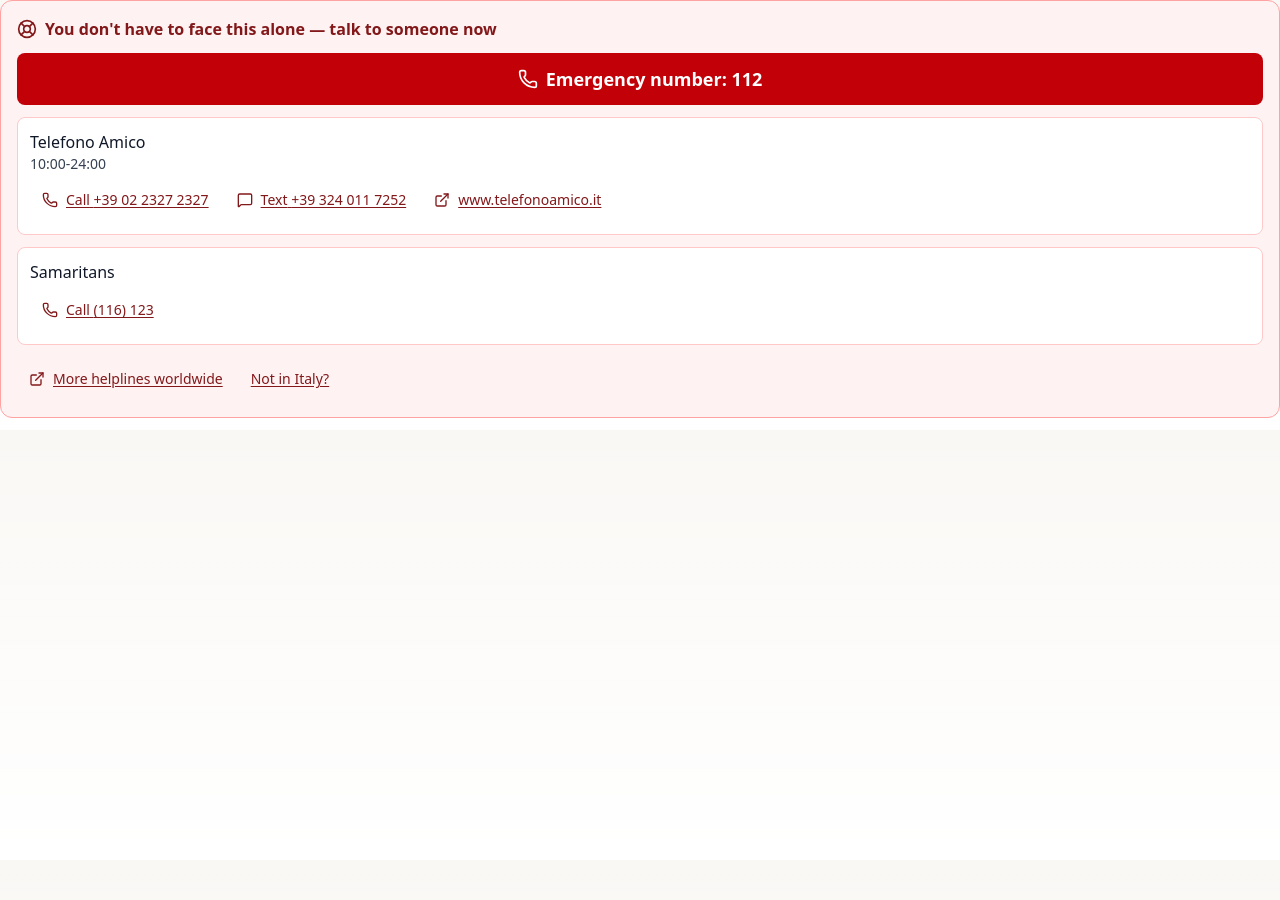
Test: CrisisResourcesCard (BITB-255) › opens a country picker, stores the override and notifies
Click the button "Not in Italy?".
click(290, 379)  # box [239, 357, 341, 401]
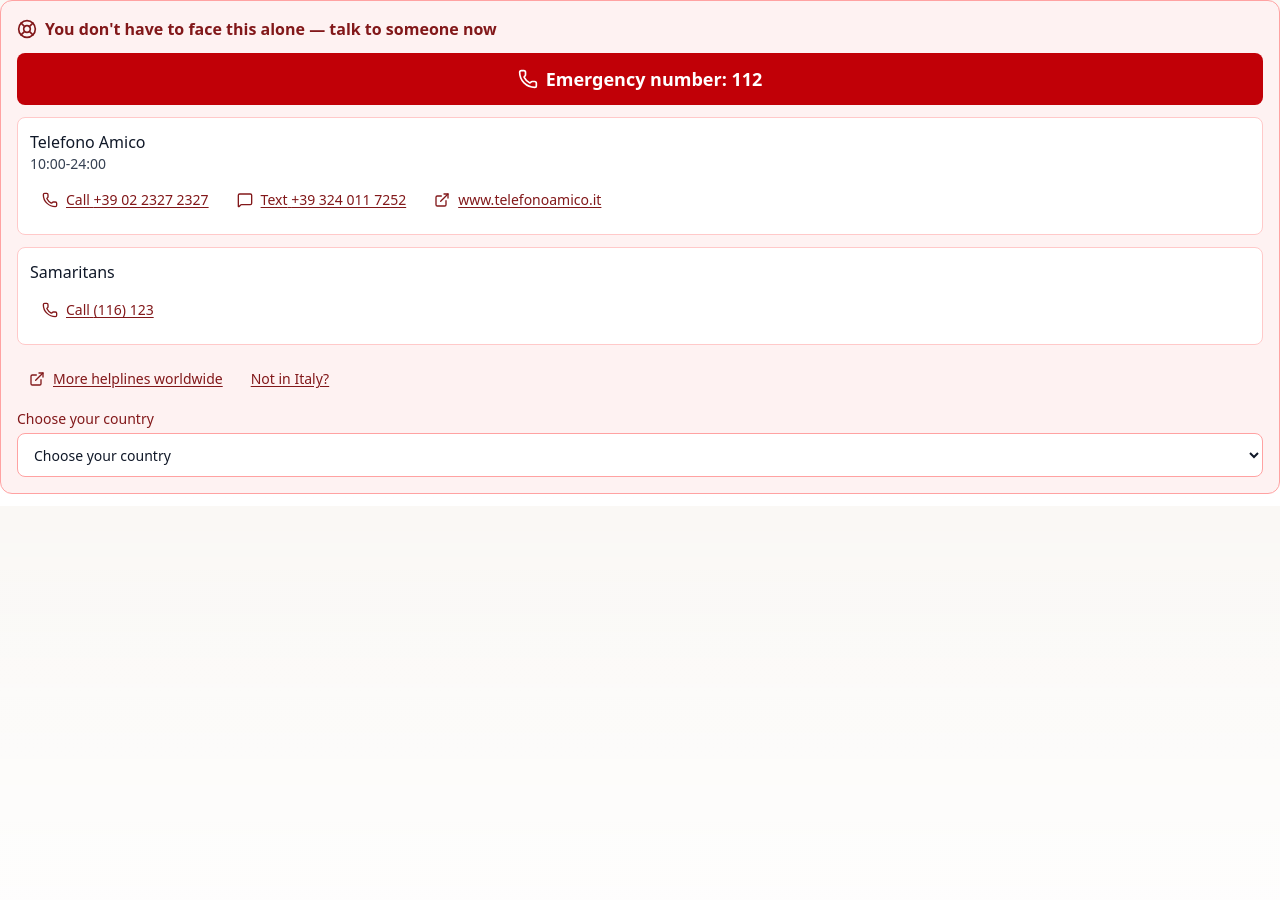
Select "Austria" in the dropdown labelled "Choose your country" at [640, 455], box [17, 433, 1263, 477]
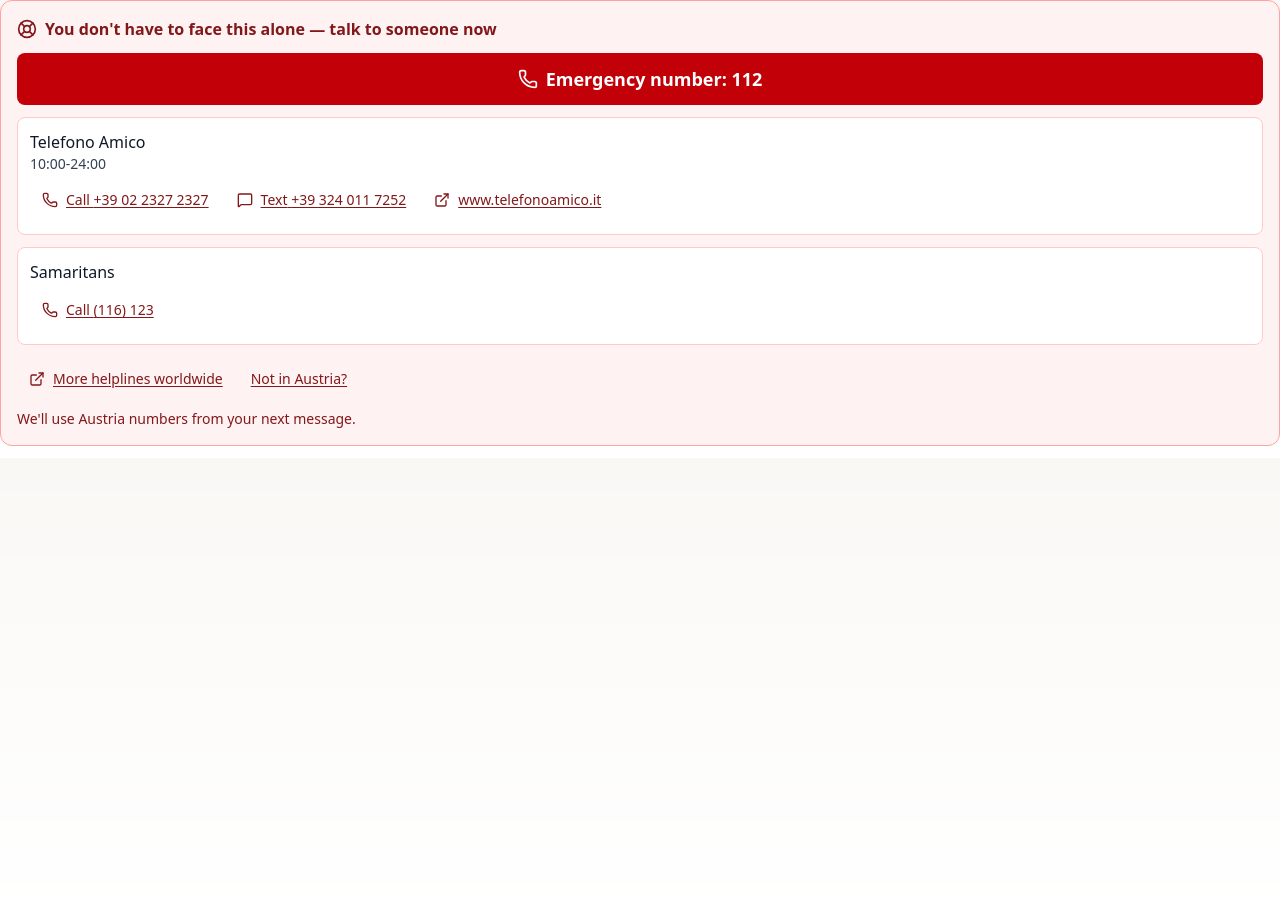
Check: the message shows "Austria", box [17, 409, 356, 428]
